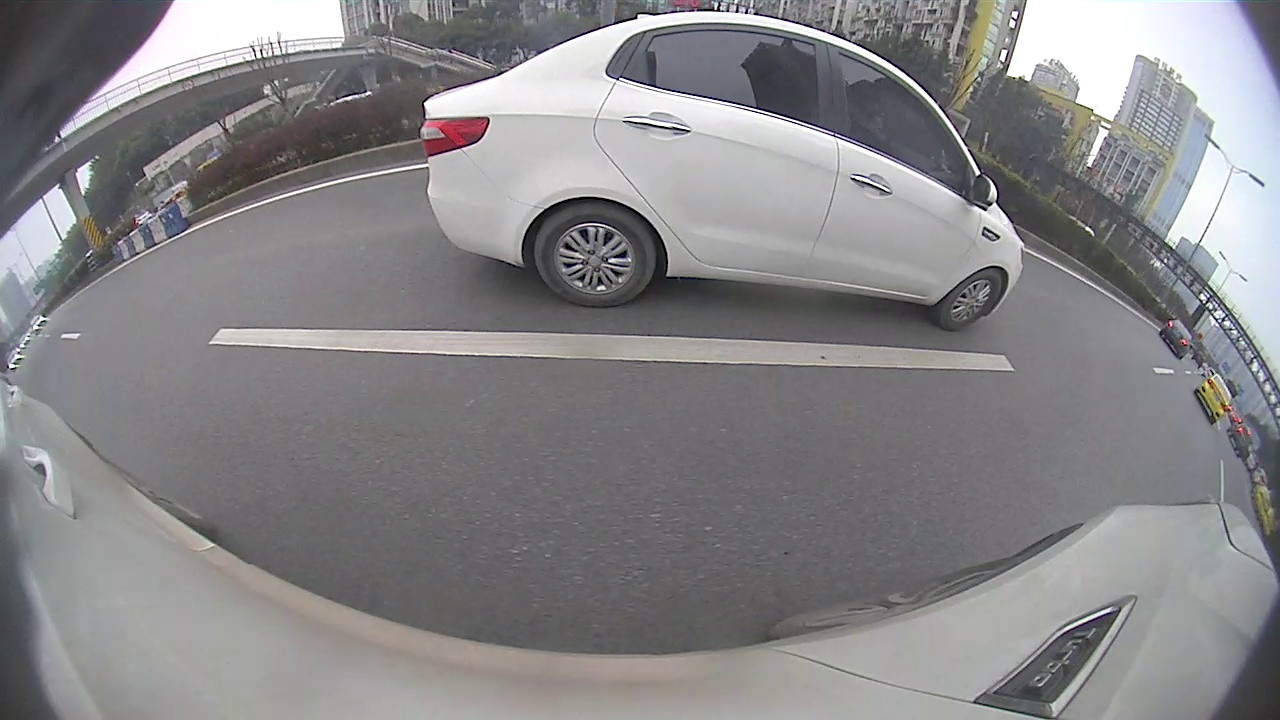car: (418, 1, 1026, 333), (1194, 373, 1236, 427), (1158, 315, 1196, 361)
front: (931, 266, 1007, 337)
rear: (531, 202, 661, 312)
